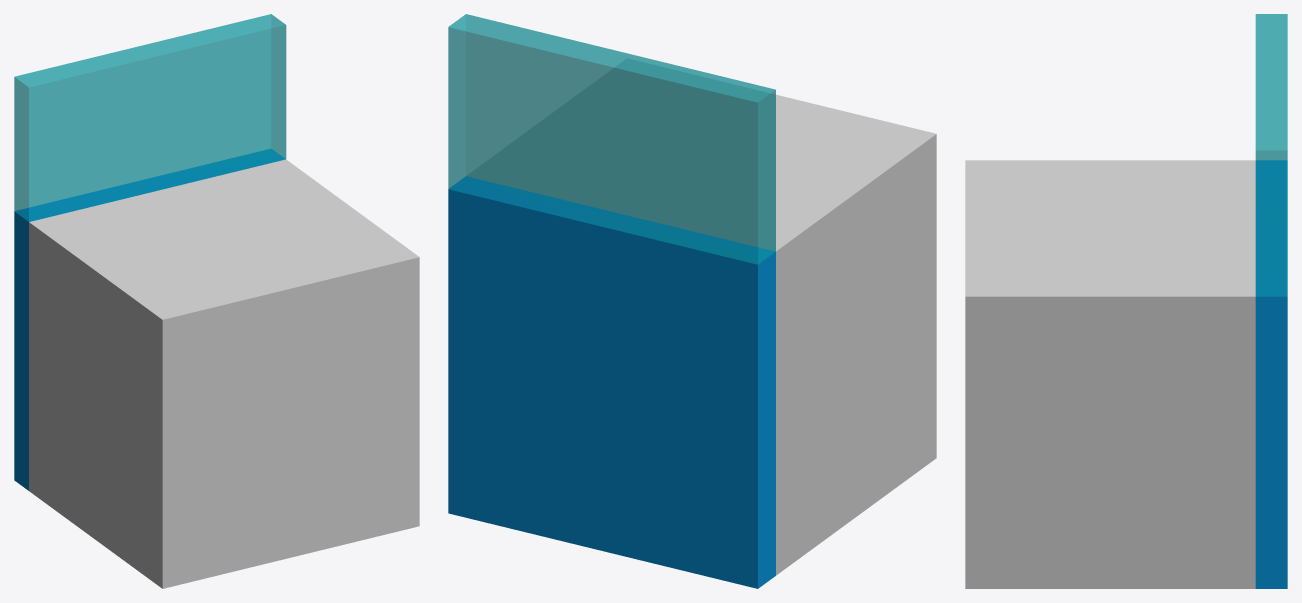
3 views of the same model, side by side, from view 1: azimuth 30°, elevation 25°; view 2: azimuth 150°, elevation 25°; view 3: azimuth 270°, elevation 25° (orthographic). The views are drawn at different scales.
Parts seen in each view (by area): view 1: 6, 立方体.007; view 2: 6, 立方体.007; view 3: 6, 立方体.007.
Boxes of the visible parts, x1,y1,x2,y2 form: 6: (14, 149, 419, 588); 立方体.007: (14, 14, 286, 221); 6: (448, 58, 936, 588); 立方体.007: (448, 14, 775, 264); 6: (965, 160, 1287, 588); 立方体.007: (1255, 14, 1287, 296).
Size of the model in its own units: 2000 by 3000 by 2000.
